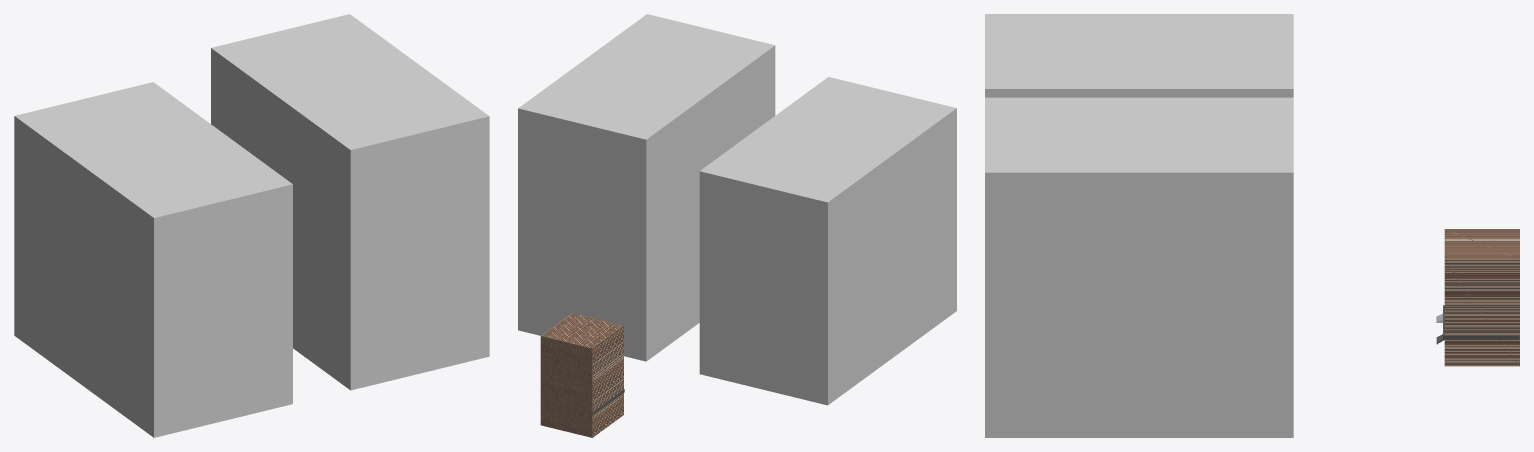
File: TestBuildings.fbx
3 views of the same model, side by side, from view 1: azimuth 30°, elevation 25°; view 2: azimuth 150°, elevation 25°; view 3: azimuth 270°, elevation 25° (orthographic). The views are drawn at different scales.
Parts seen in each view (by area): view 1: Cube.005, Cube.006; view 2: Cube.005, Cube.006, Cube.001; view 3: Cube.006, Cube.005, Cube.001.
Boxes of the visible parts, x1,y1,x2,y2 form: Cube.005: (14, 82, 292, 437); Cube.006: (211, 14, 489, 390); Cube.005: (699, 77, 956, 405); Cube.006: (518, 14, 775, 361); Cube.001: (540, 313, 623, 437); Cube.006: (985, 97, 1293, 437); Cube.005: (985, 14, 1293, 97); Cube.001: (1444, 229, 1519, 366).
Size of the model in its own units: 1044 by 715 by 1305.
